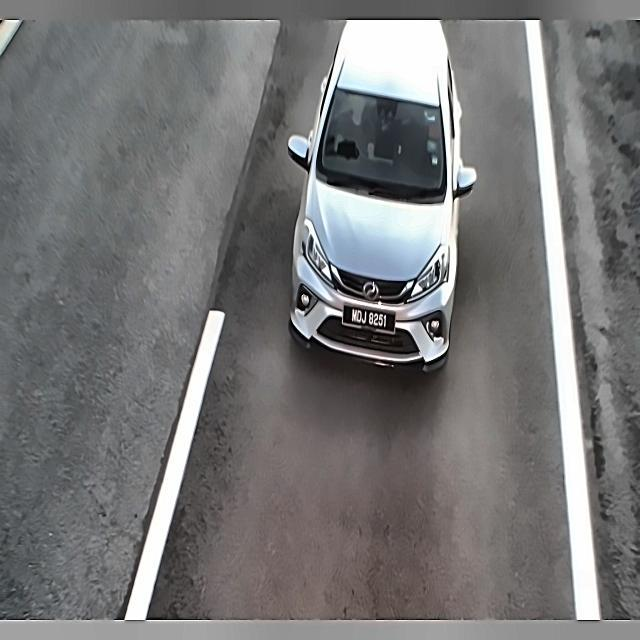car: (342, 297, 394, 338)
